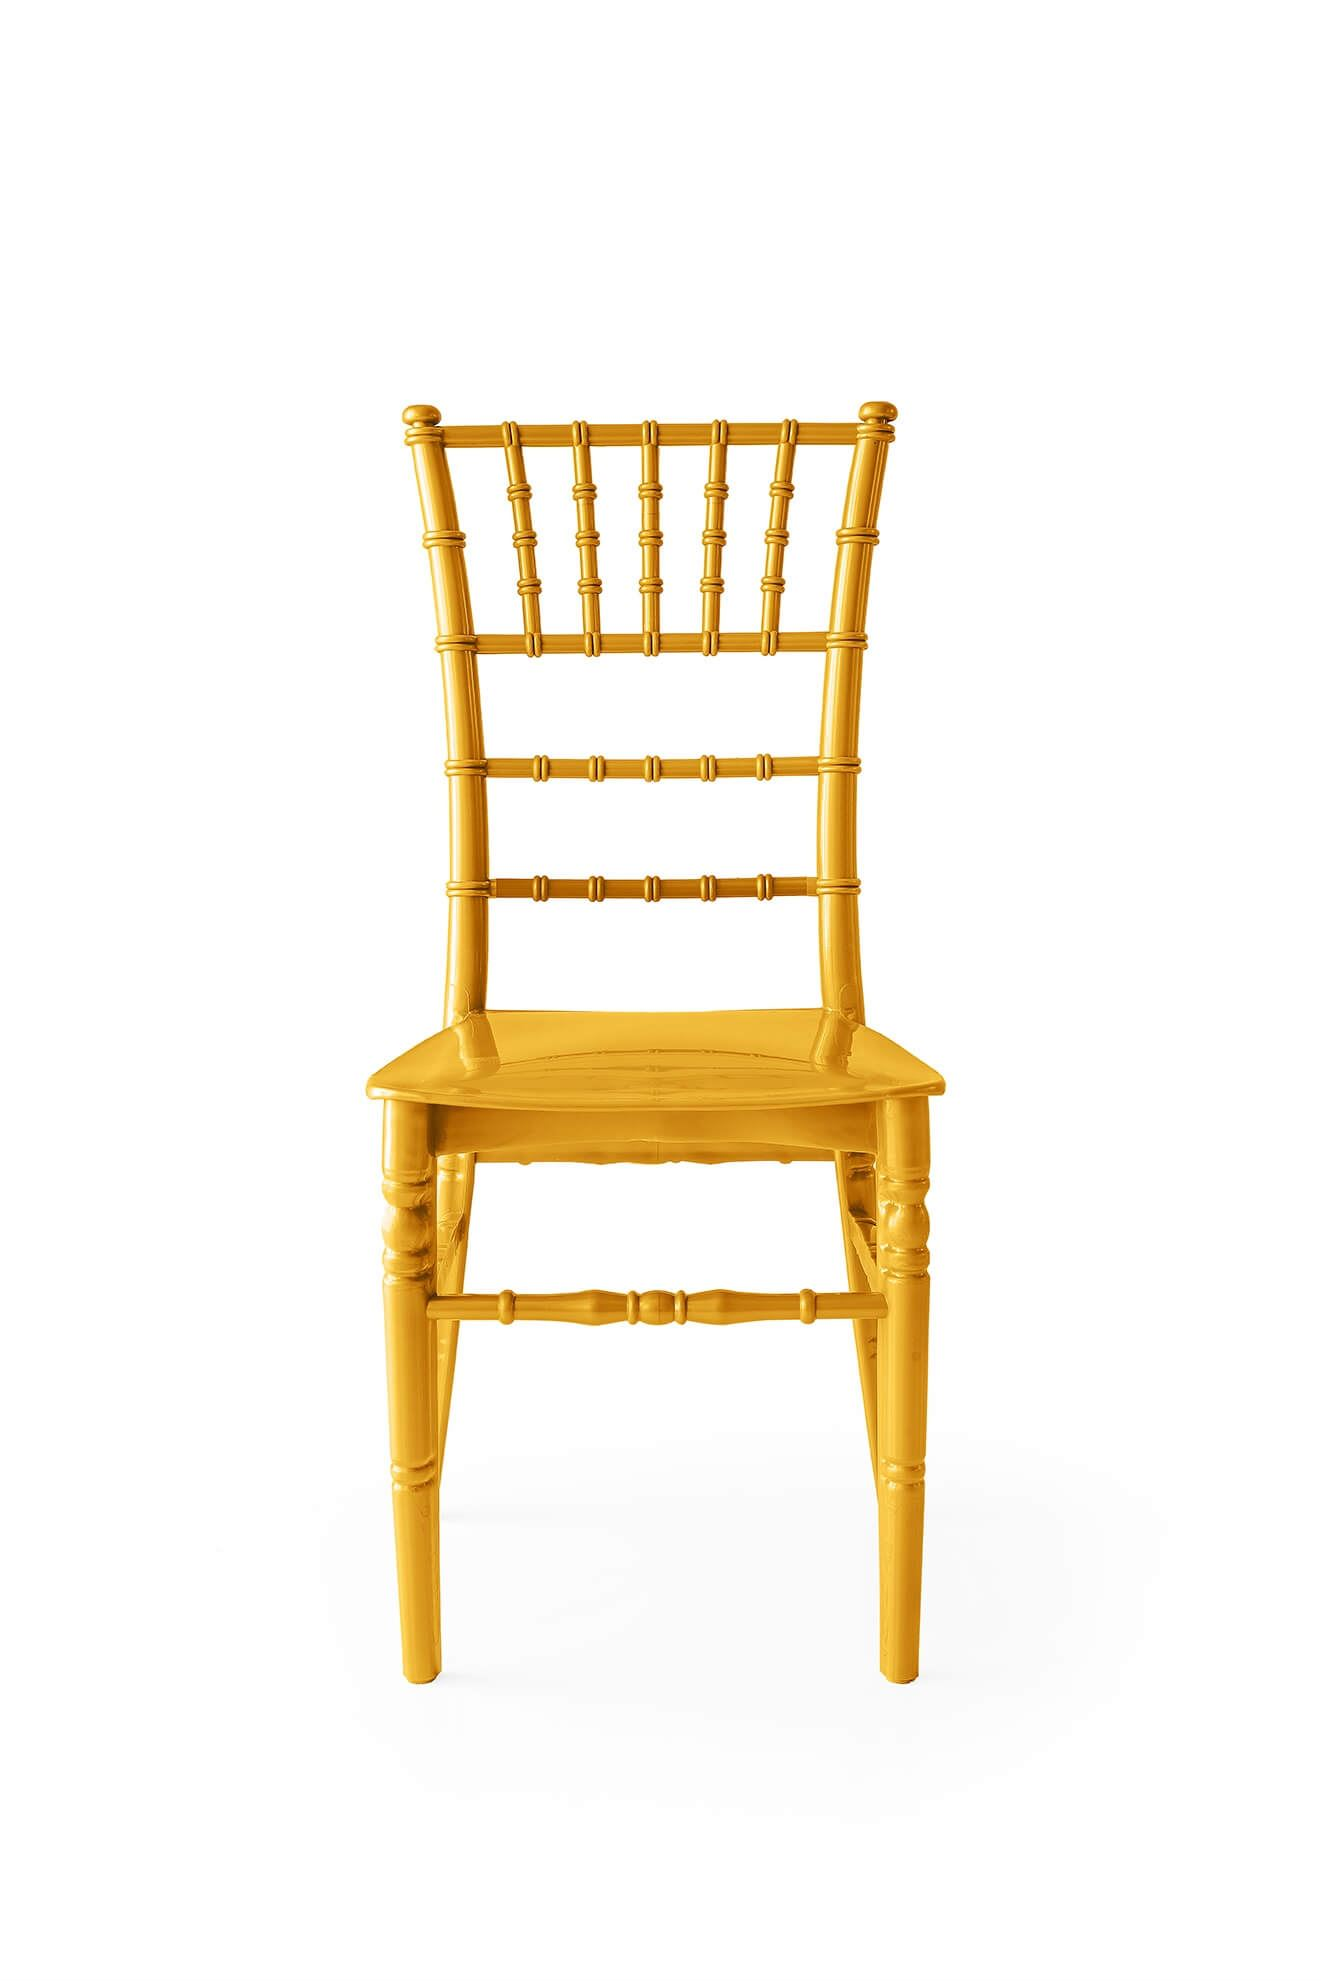chair: (372, 394, 954, 1708)
